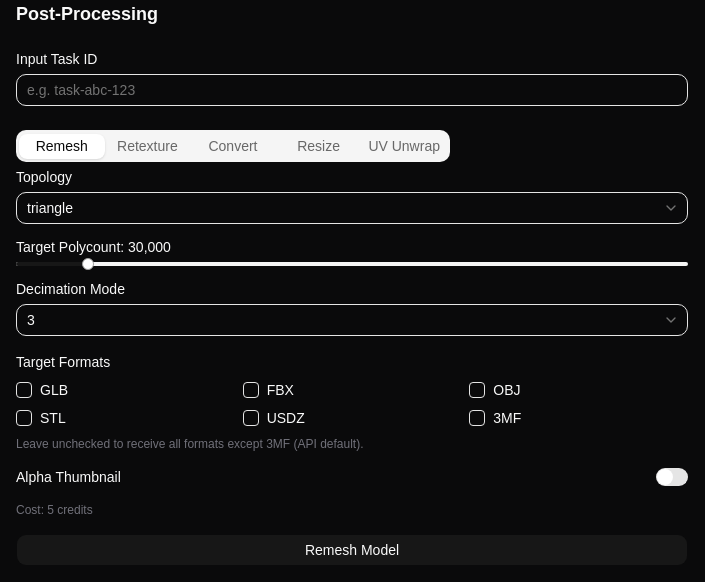
Scenario: PostProcessPanel — TC-POST-05 (UV Unwrap) › TC-POST-05-02: uv unwrap tab renders the uv unwrap button
Click the tab "UV Unwrap" at (404, 146), box [361, 134, 447, 158]
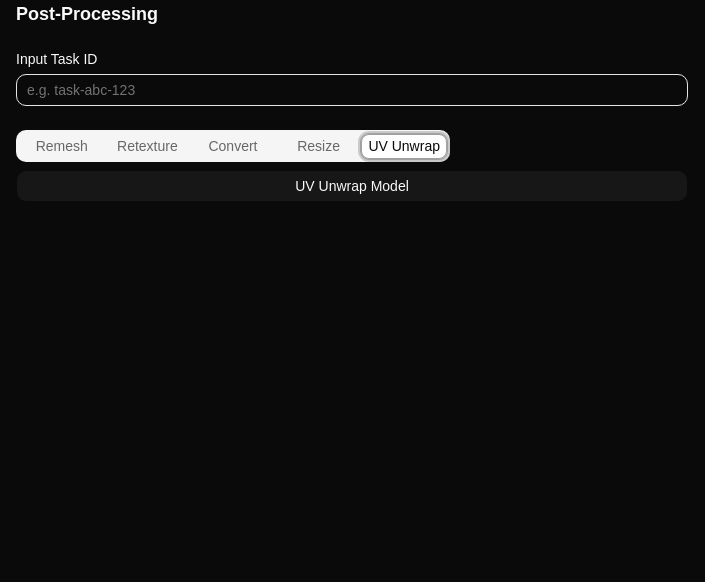
Now the button "UV Unwrap Model" is shown, box [16, 170, 688, 202]
